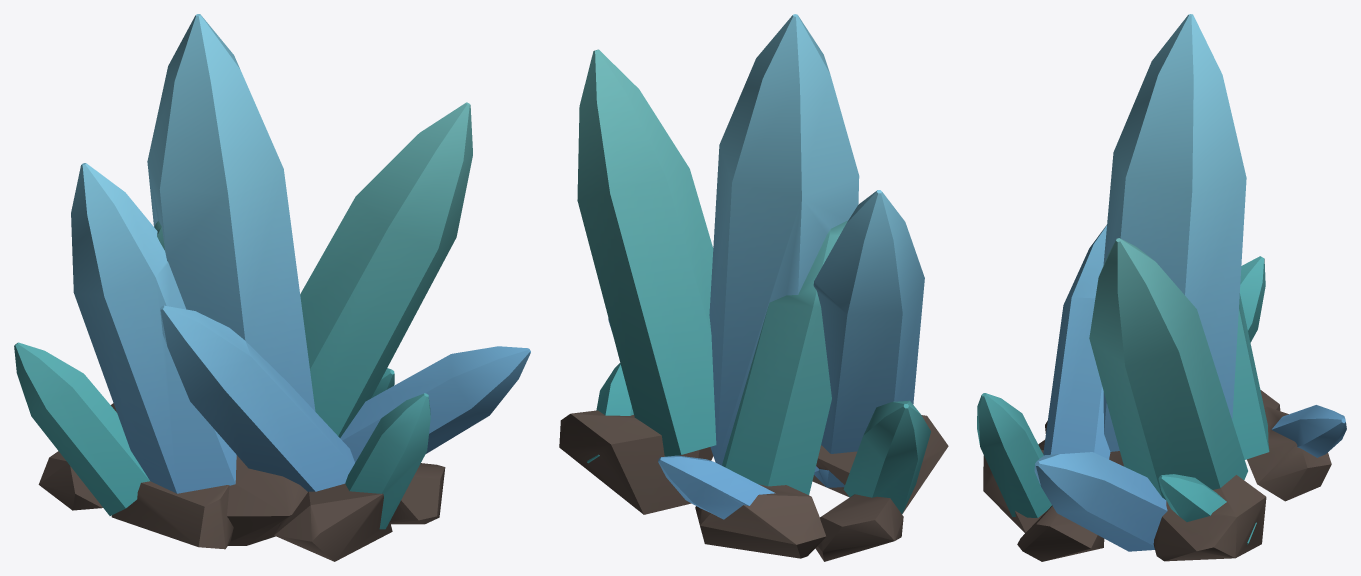
File: crystal_cluster_huge.glb
3 views of the same model, side by side, from view 1: azimuth 30°, elevation 25°; view 2: azimuth 150°, elevation 25°; view 3: azimuth 270°, elevation 25° (orthographic). The views are drawn at different scales.
Visible parts, largest first — view 1: crystal_cluster_huge; view 2: crystal_cluster_huge; view 3: crystal_cluster_huge.
Boxes of the visible parts, x1=… form: crystal_cluster_huge: x1=14, y1=14, x2=530, y2=561; crystal_cluster_huge: x1=559, y1=14, x2=948, y2=561; crystal_cluster_huge: x1=977, y1=14, x2=1346, y2=561.
Bounding box in the file's own units: 3.35 × 3.9 × 2.74.
1 material, 1 textured.
